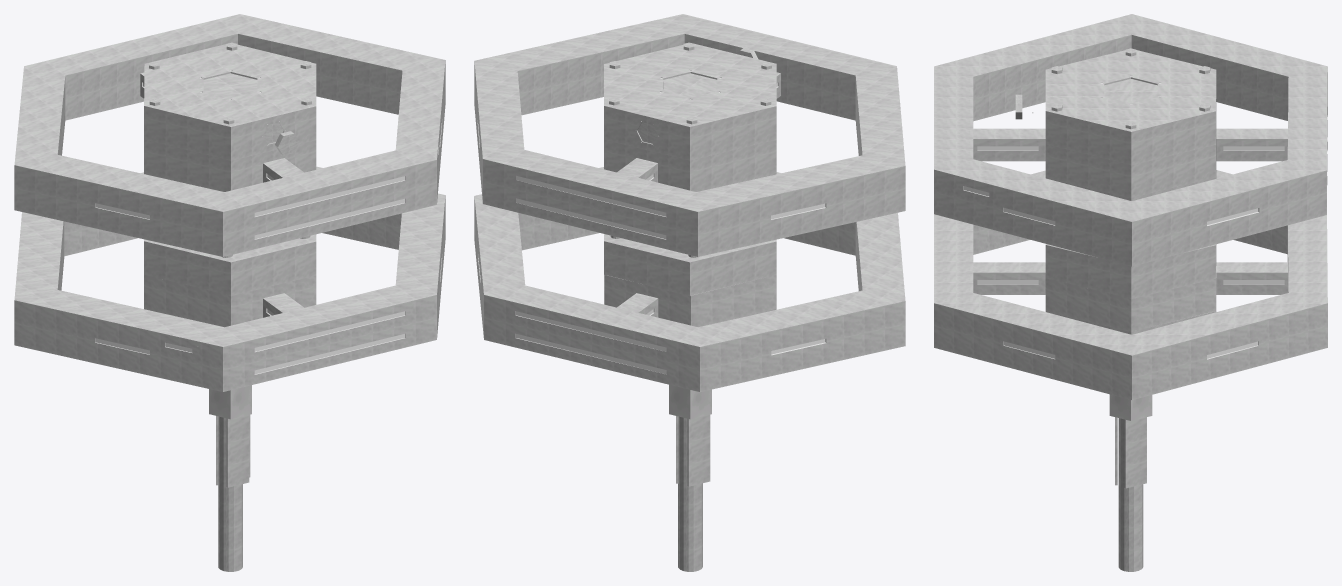
The model's file is Satellite_Weapon.fbx.
3 views of the same model, side by side, from view 1: azimuth 30°, elevation 25°; view 2: azimuth 150°, elevation 25°; view 3: azimuth 270°, elevation 25° (orthographic).
Visible parts, largest first — view 1: node_id11 (×2), node_id14 (×2), node_id17, node_id20 (×2), node_id8; view 2: node_id11 (×2), node_id14 (×2), node_id17, node_id20 (×2), node_id8; view 3: node_id11 (×2), node_id14 (×2), node_id17, node_id20 (×2), node_id8.
Part boxes in pixels (x1,y1,x2,y2): node_id11 (×2): [14, 14, 445, 256]; node_id14 (×2): [14, 166, 445, 391]; node_id17: [144, 42, 316, 160]; node_id20 (×2): [144, 172, 316, 487]; node_id8: [218, 416, 242, 571]; node_id11 (×2): [474, 14, 905, 256]; node_id14 (×2): [474, 167, 905, 391]; node_id17: [604, 42, 776, 160]; node_id20 (×2): [604, 173, 776, 486]; node_id8: [678, 416, 702, 571]; node_id11 (×2): [934, 14, 1327, 266]; node_id14 (×2): [934, 170, 1327, 399]; node_id17: [1045, 48, 1216, 165]; node_id20 (×2): [1045, 165, 1216, 488]; node_id8: [1118, 418, 1143, 571].
Bounding box in the file's own units: 0.4764 × 0.512 × 0.3811.
12 materials, 12 textured.
